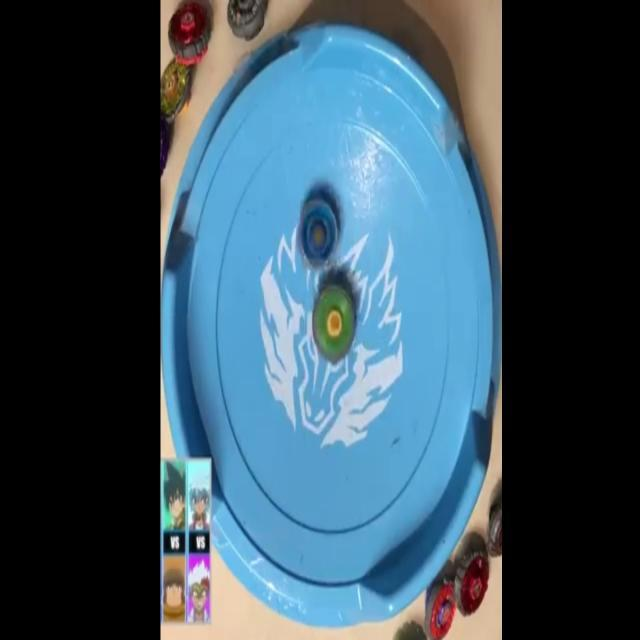Beyblade: (311, 284, 357, 363), (299, 198, 338, 270), (168, 0, 211, 65), (454, 550, 490, 616), (160, 56, 192, 125), (424, 577, 456, 640)
